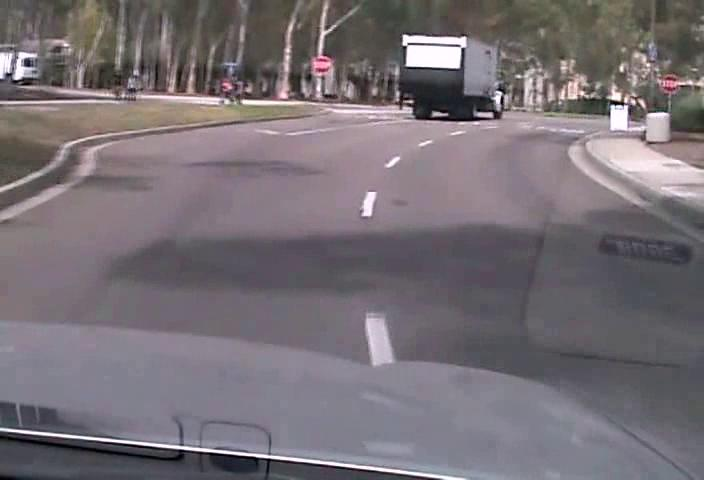stop: (311, 55, 331, 73)
